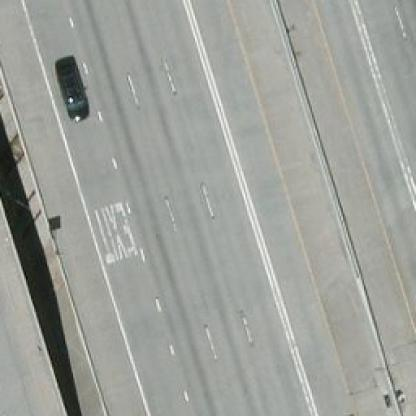car: (55, 63, 88, 122)
